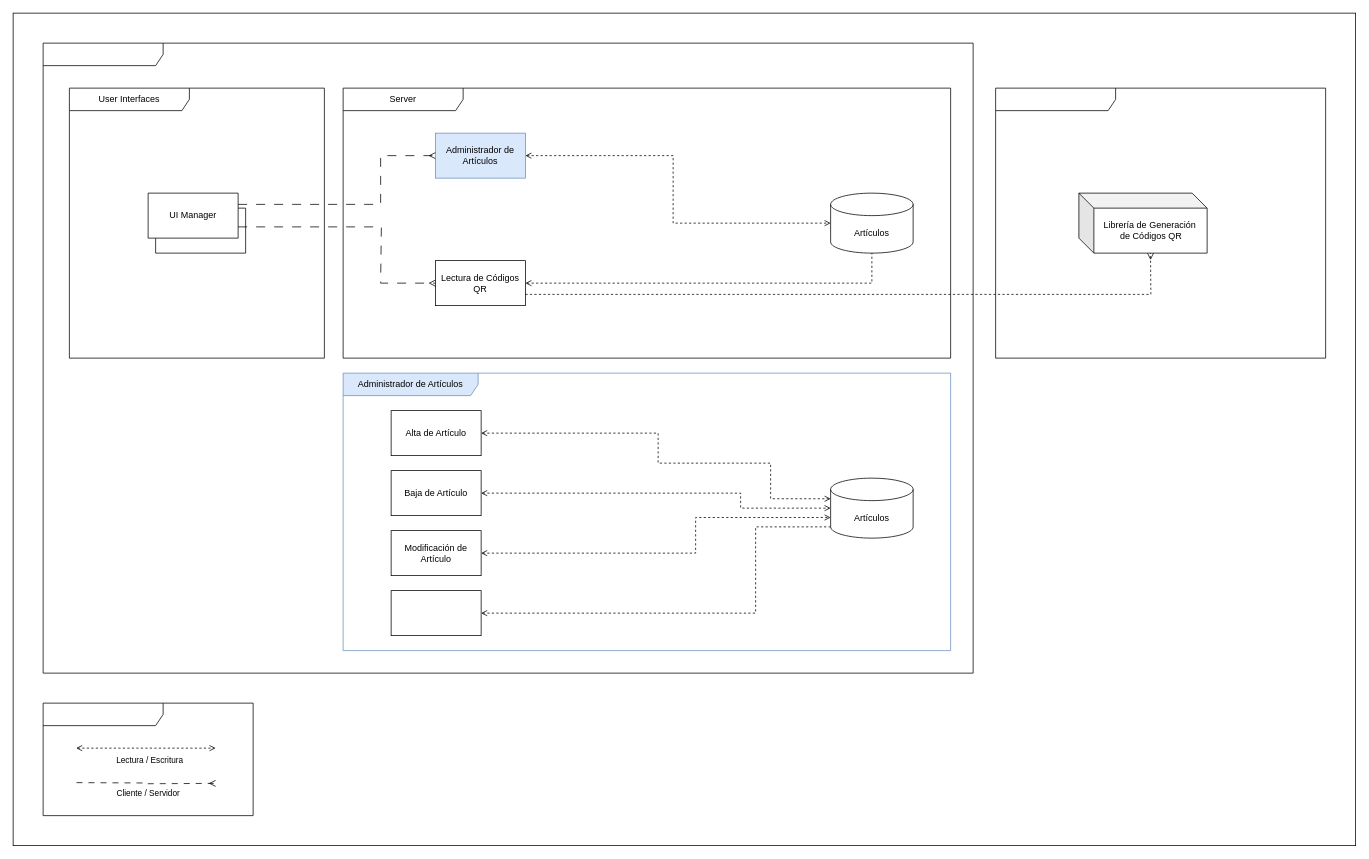
Image size: 1369x859. Some labels were removed from this diagram. The shapes that lost their labels are listed below. From the top down, each one's box as (x1, y1, x2, y2) in pixels, then its label:
(995, 87, 1326, 358): APIs or External Libraries
(42, 42, 973, 673): System
(390, 590, 481, 636): Búsqueda de Artículos
(42, 702, 253, 816): Referencias
